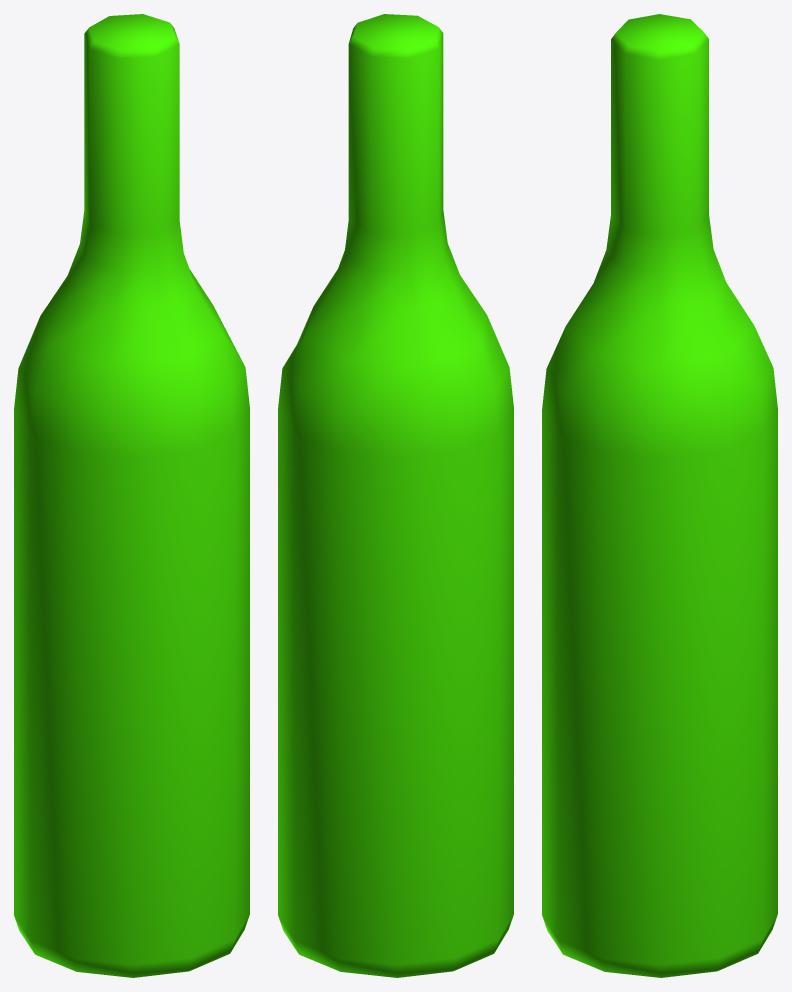
The model's file is 20_rum_havanclub.gltf.
3 renders of one model, left to right at view 1: azimuth 30°, elevation 25°; view 2: azimuth 150°, elevation 25°; view 3: azimuth 270°, elevation 25°, orthographic.
Visible parts, largest first — view 1: Havana_Club_Atlas_0; view 2: Havana_Club_Atlas_0; view 3: Havana_Club_Atlas_0.
Boxes of the visible parts, x1=… form: Havana_Club_Atlas_0: x1=14, y1=14, x2=249, y2=977; Havana_Club_Atlas_0: x1=278, y1=14, x2=513, y2=977; Havana_Club_Atlas_0: x1=542, y1=14, x2=777, y2=977.
Bounding box in the file's own units: 6.59 × 27.9 × 6.59.
Materials: 1 (1 with a texture image).
